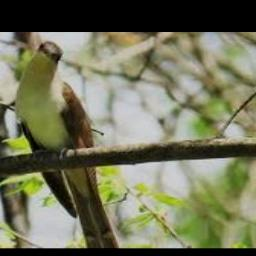Cuckoo: (15, 41, 120, 248)
